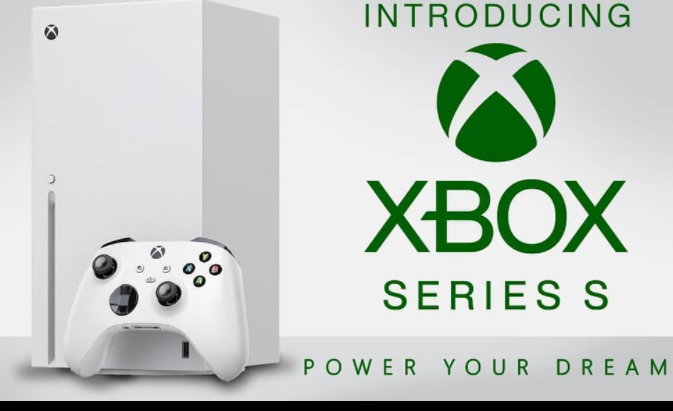gamingconsole: (63, 237, 249, 381)
